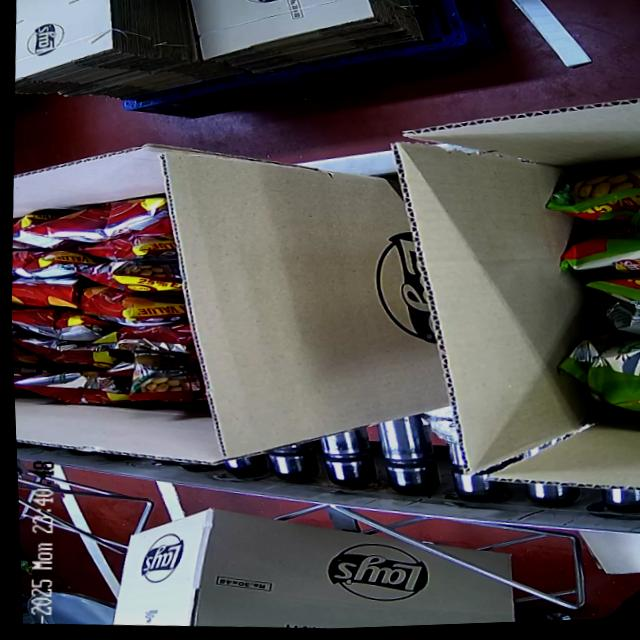MASALA: (8, 202, 192, 403)
YOGURT_HERB: (519, 140, 640, 441)
